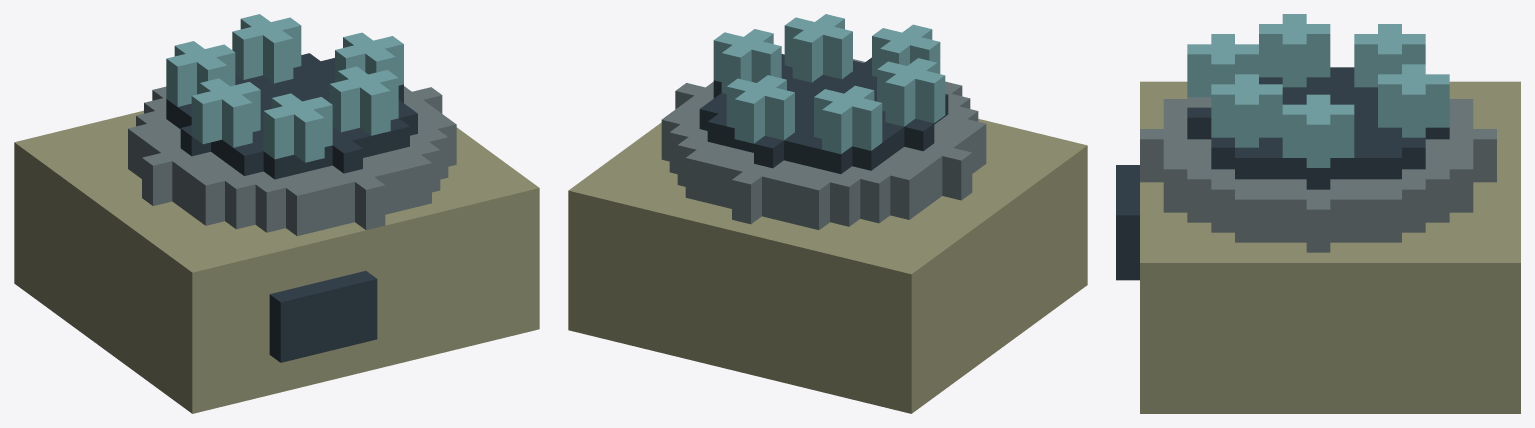
The model's file is chemistry-07.glb.
3 views of the same model, side by side, from view 1: azimuth 30°, elevation 25°; view 2: azimuth 150°, elevation 25°; view 3: azimuth 270°, elevation 25° (orthographic). The views are drawn at different scales.
Parts seen in each view (by area): view 1: Lab centrifuge; view 2: Lab centrifuge; view 3: Lab centrifuge.
Part boxes in pixels (<box>): Lab centrifuge: <box>14,14,539,413</box>; Lab centrifuge: <box>568,14,1087,413</box>; Lab centrifuge: <box>1116,14,1520,413</box>.
Bounding box in the file's own units: 1.44 × 0.96 × 1.36.
